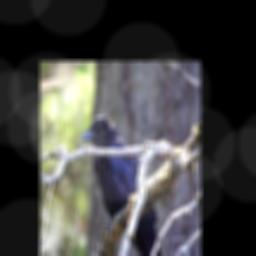Crow: (82, 115, 164, 256)
